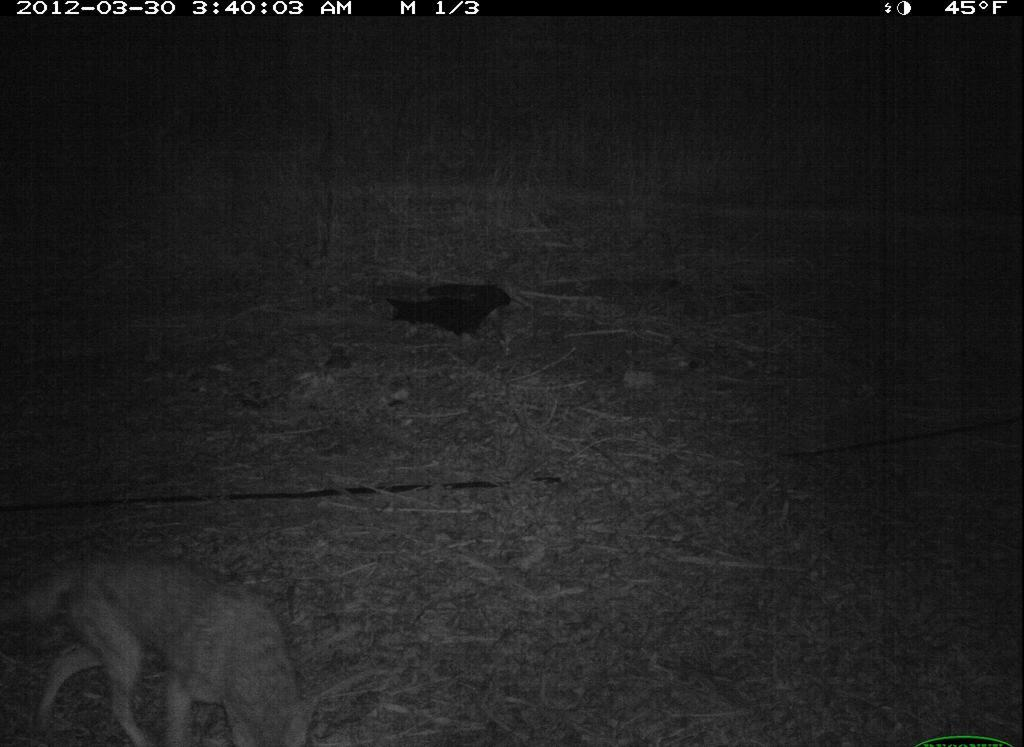coyote: (11, 541, 347, 743)
